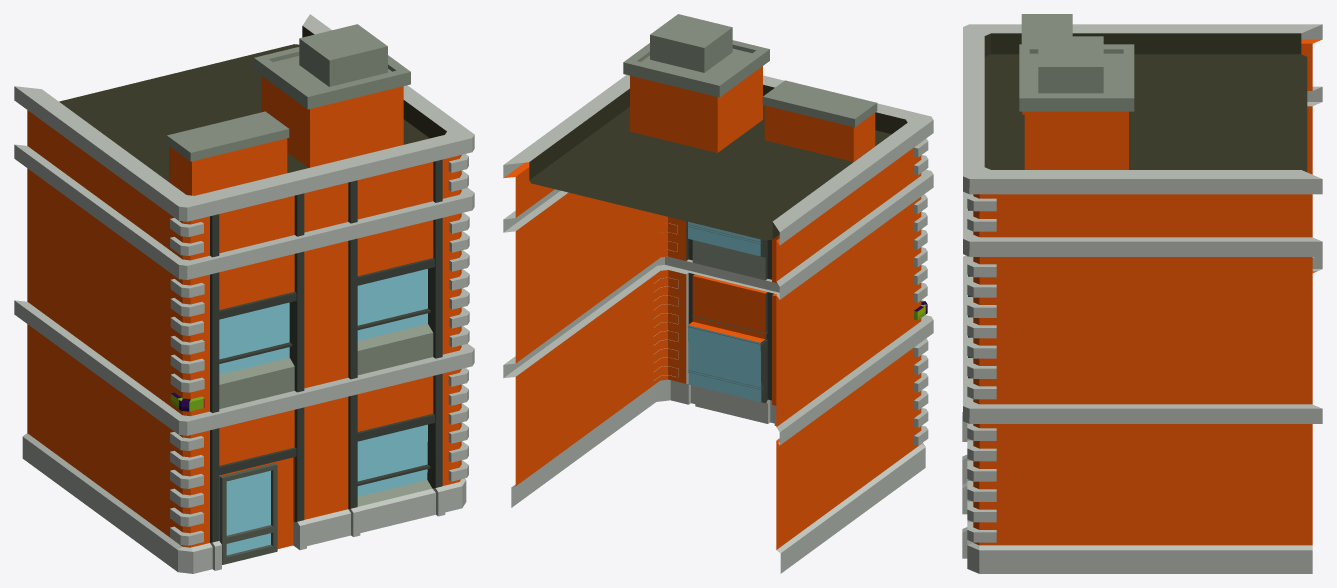
File: House5.fbx
3 views of the same model, side by side, from view 1: azimuth 30°, elevation 25°; view 2: azimuth 150°, elevation 25°; view 3: azimuth 270°, elevation 25° (orthographic). The views are drawn at different scales.
Visible parts, largest first — view 1: House1.005; view 2: House1.005; view 3: House1.005.
Part boxes in pixels (bbox=[...]): House1.005: bbox=[14, 14, 474, 573]; House1.005: bbox=[503, 14, 933, 573]; House1.005: bbox=[962, 14, 1322, 573].
Bounding box in the file's own units: 795 × 1150 × 782.
1 material, 1 textured.
